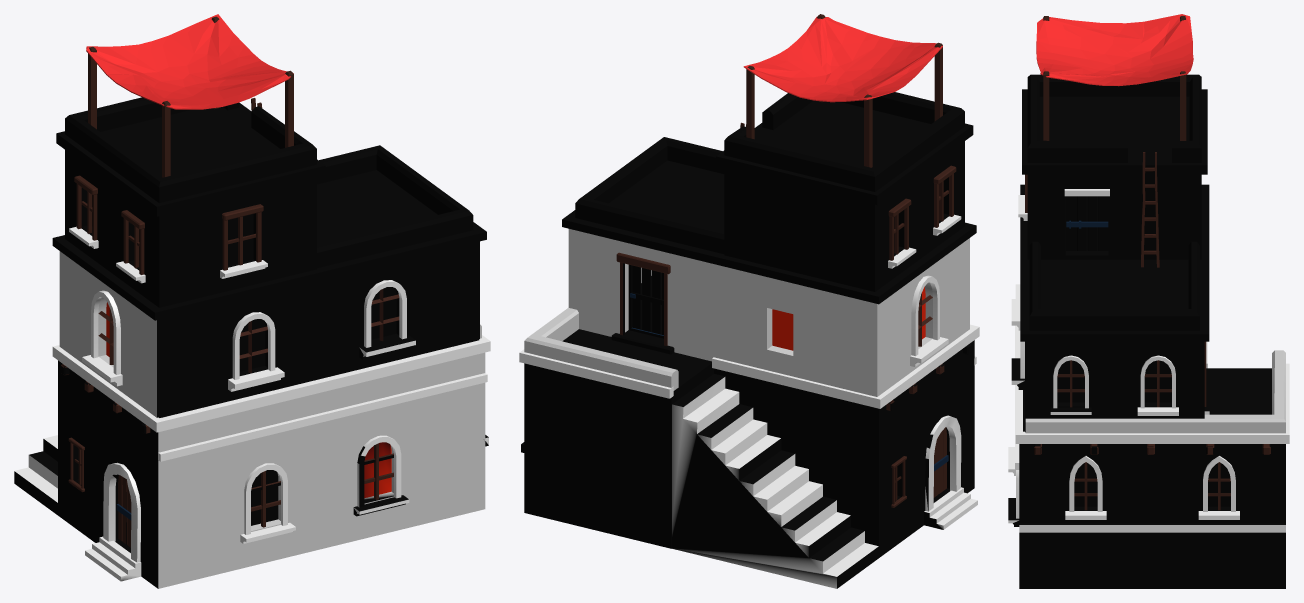
Rendered from civilian_house_31_c.FBX.
3 views of the same model, side by side, from view 1: azimuth 30°, elevation 25°; view 2: azimuth 150°, elevation 25°; view 3: azimuth 270°, elevation 25° (orthographic). The views are drawn at different scales.
Parts seen in each view (by area): view 1: civilian_house_31_c; view 2: civilian_house_31_c; view 3: civilian_house_31_c.
Boxes of the visible parts, x1,y1,x2,y2 form: civilian_house_31_c: (14, 14, 490, 588); civilian_house_31_c: (519, 14, 979, 588); civilian_house_31_c: (1008, 14, 1289, 588).
Size of the model in its own units: 1146 by 1442 by 844.
